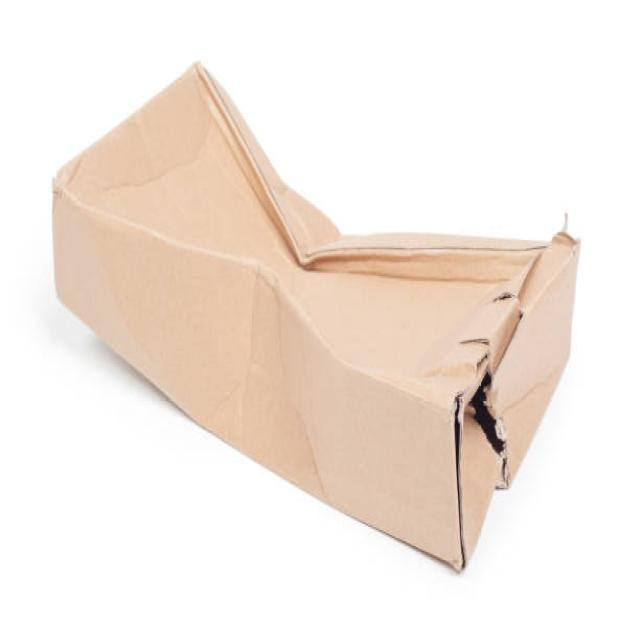box: (29, 99, 611, 559)
